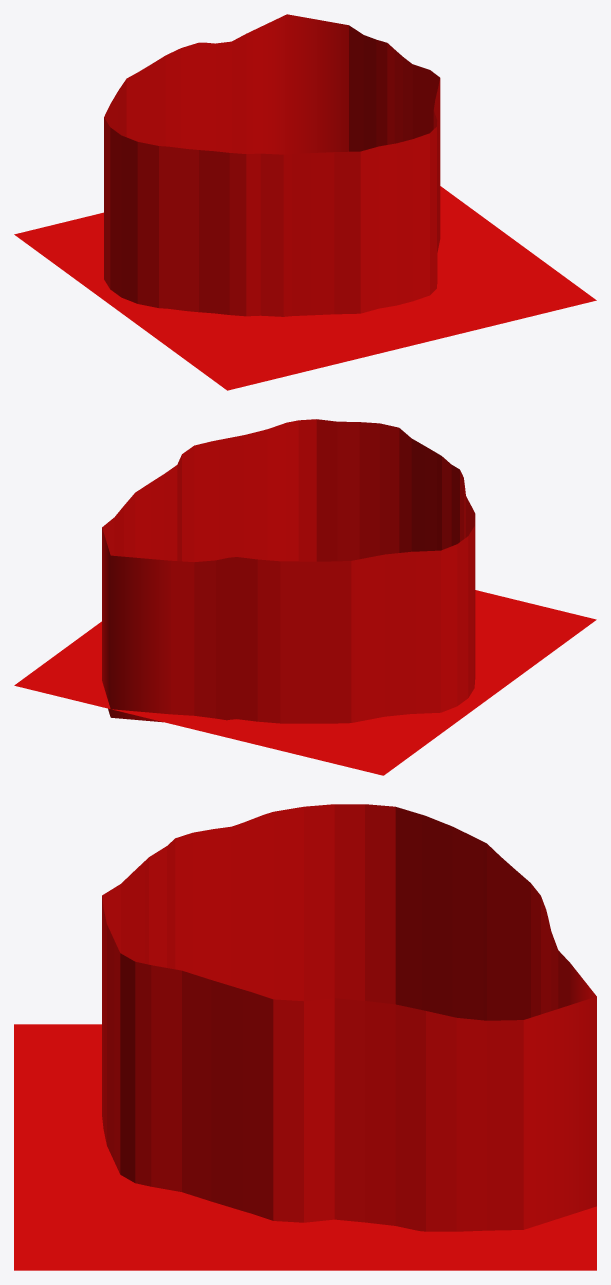
File: collision map walls.fbx
3 views of the same model, one above another, from view 1: azimuth 30°, elevation 25°; view 2: azimuth 150°, elevation 25°; view 3: azimuth 270°, elevation 25° (orthographic). The views are drawn at different scales.
Visible parts, largest first — view 1: pPlane4; view 2: pPlane4; view 3: pPlane4.
Boxes of the visible parts, x1,y1,x2,y2 form: pPlane4: [14, 14, 596, 390]; pPlane4: [14, 419, 596, 775]; pPlane4: [14, 804, 596, 1270].
Bounding box in the file's own units: 895 × 425 × 895.
